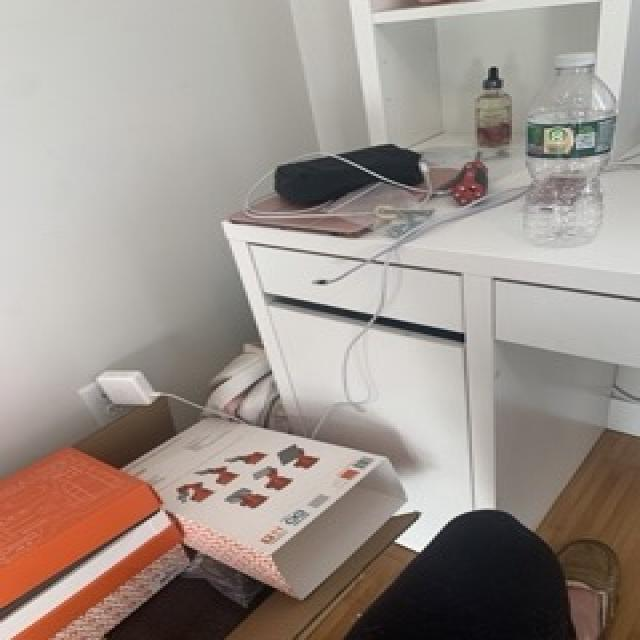water_bottle: (523, 48, 619, 249)
